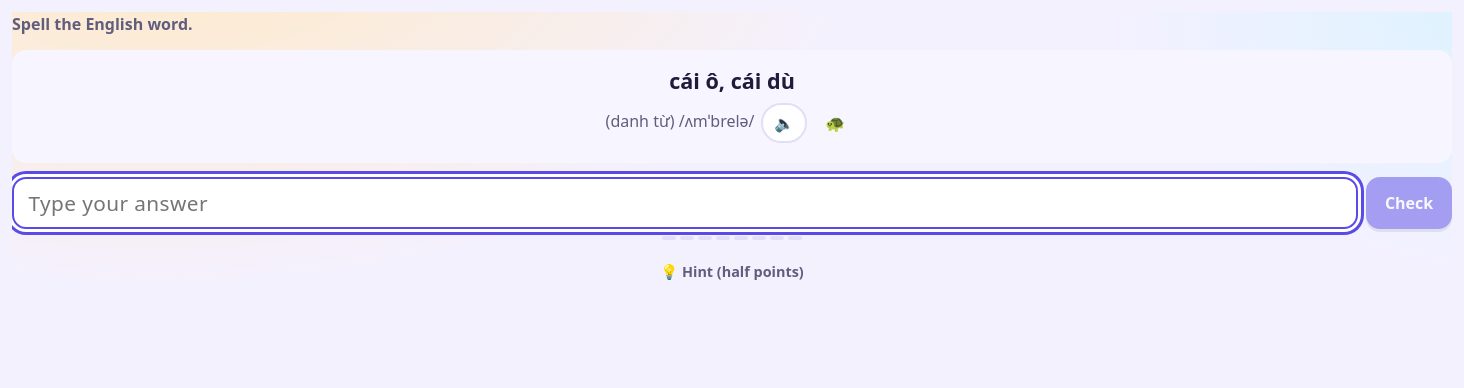
Scenario: mode interactions › Spell It: wrong spelling reports wrong with the given answer; hint halves
Click the button "💡 Hint (half points)" at x=732, y=272, box [12,254,1452,290]
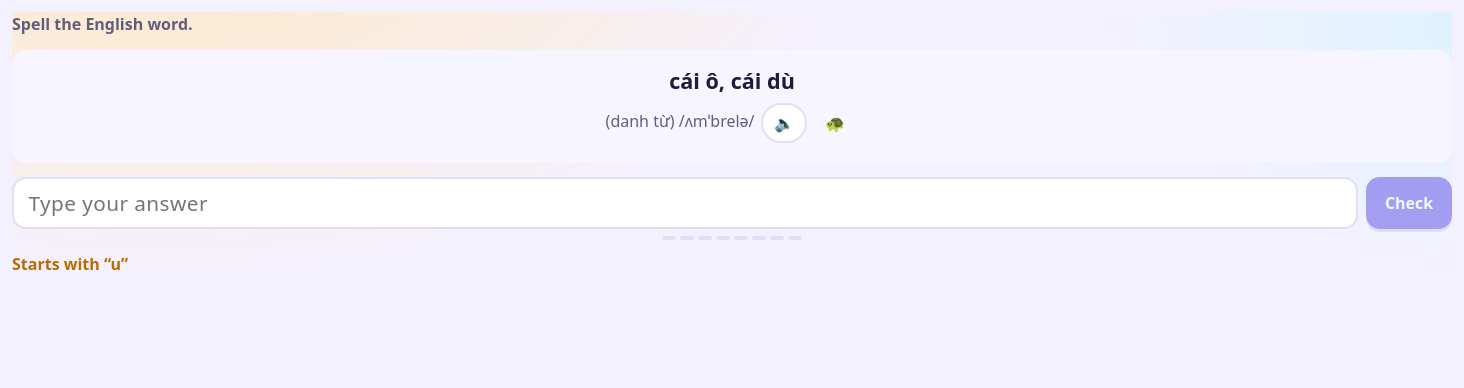
Type "umbrela" into the field named "English spelling" at x=685, y=203, box [12,177,1358,229]
Then press Enter
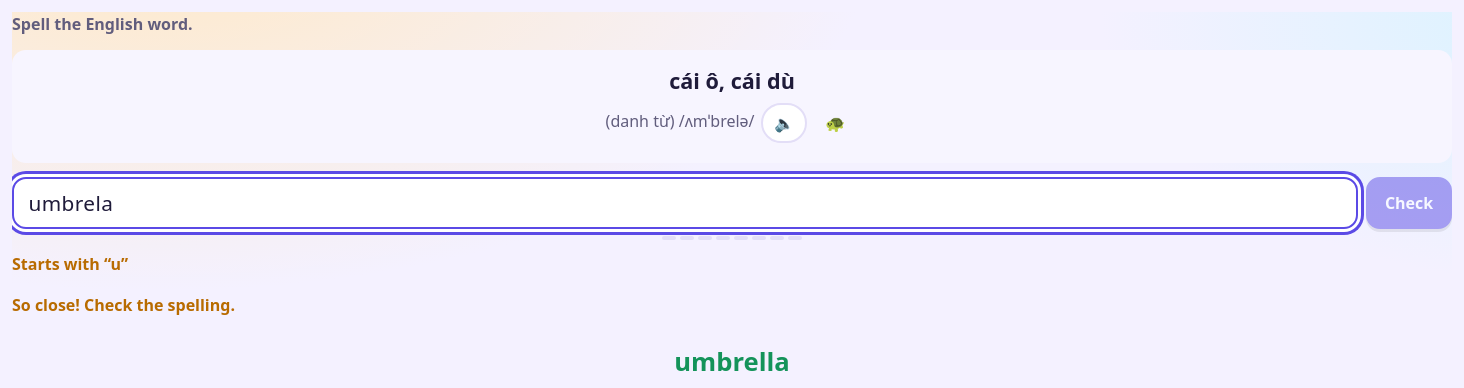
Expected: the text "So close! Check the spelling." is shown, [12,294,235,316]
